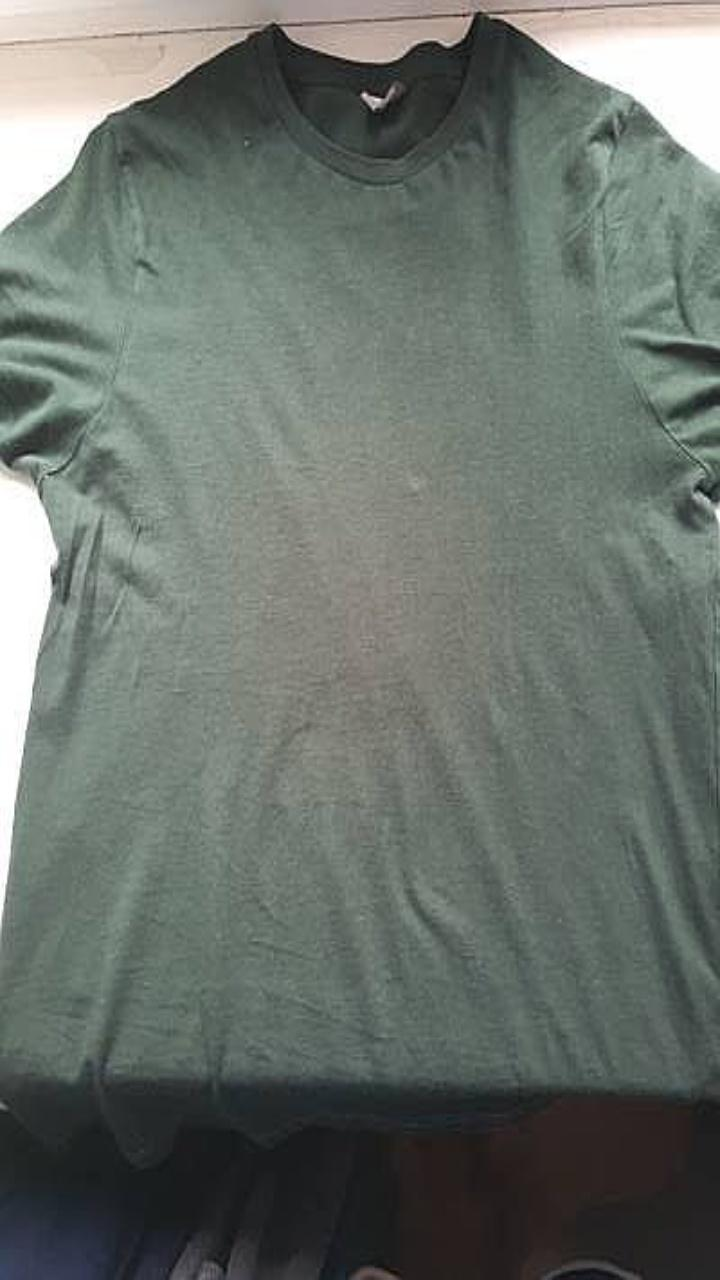T-Shirt: (0, 12, 719, 1164)
